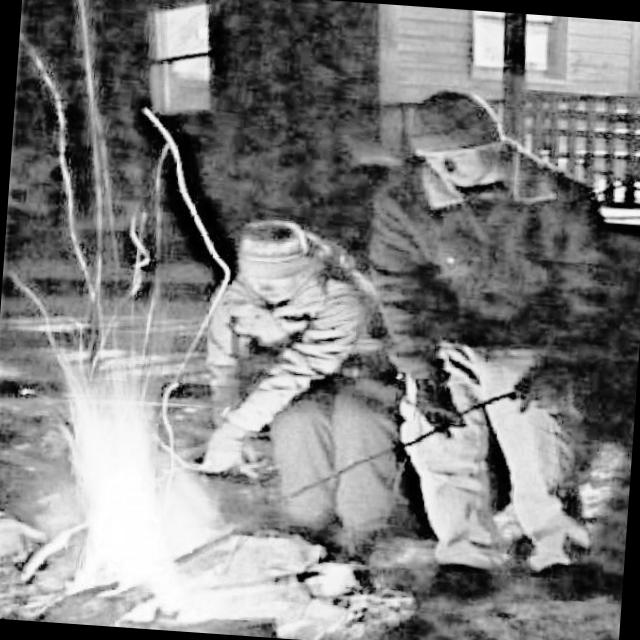Person: (346, 73, 640, 576), (192, 207, 426, 568)
